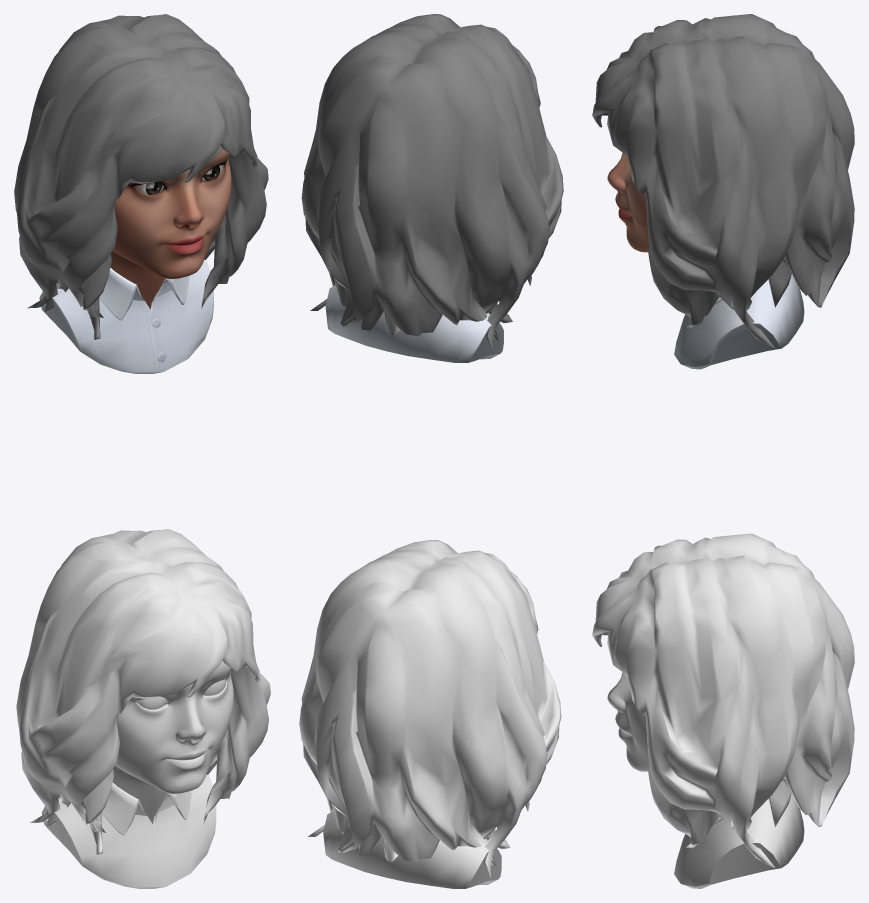
The picture shows the model from 3 angles, left to right: view 1: azimuth 30°, elevation 25°; view 2: azimuth 150°, elevation 25°; view 3: azimuth 270°, elevation 25°; orthographic projection. The views are drawn at different scales.
Visible parts, largest first — view 1: Wolf3D_Avatar.001, Wolf3D_Avatar; view 2: Wolf3D_Avatar.001, Wolf3D_Avatar; view 3: Wolf3D_Avatar.001, Wolf3D_Avatar.
Boxes of the visible parts, x1,y1,x2,y2 form: Wolf3D_Avatar.001: (16, 529, 270, 888); Wolf3D_Avatar: (14, 14, 268, 373); Wolf3D_Avatar.001: (299, 540, 561, 888); Wolf3D_Avatar: (301, 14, 563, 362); Wolf3D_Avatar.001: (592, 533, 854, 888); Wolf3D_Avatar: (592, 14, 854, 369).
Size of the model in its own units: 0.2802 by 0.2652 by 0.9455.
2 materials, 1 textured.
